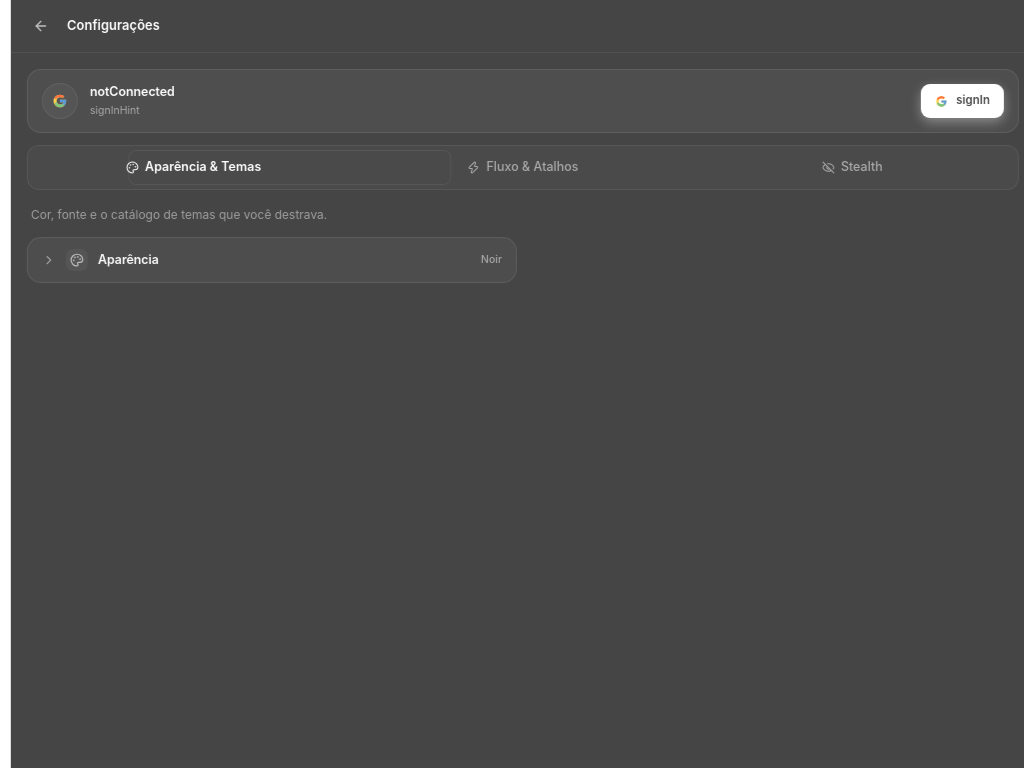
Scenario: SettingsPanel — 3-section tabstrip (DS9) › section subtitle is rendered and updates with the active tab
Expected: the text "Cor, fonte e o catálogo de temas que você destrava." is shown, [31,206,327,221]
Step 1. Click the tab "Stealth" → (852, 167), box [690,150,1014,185]
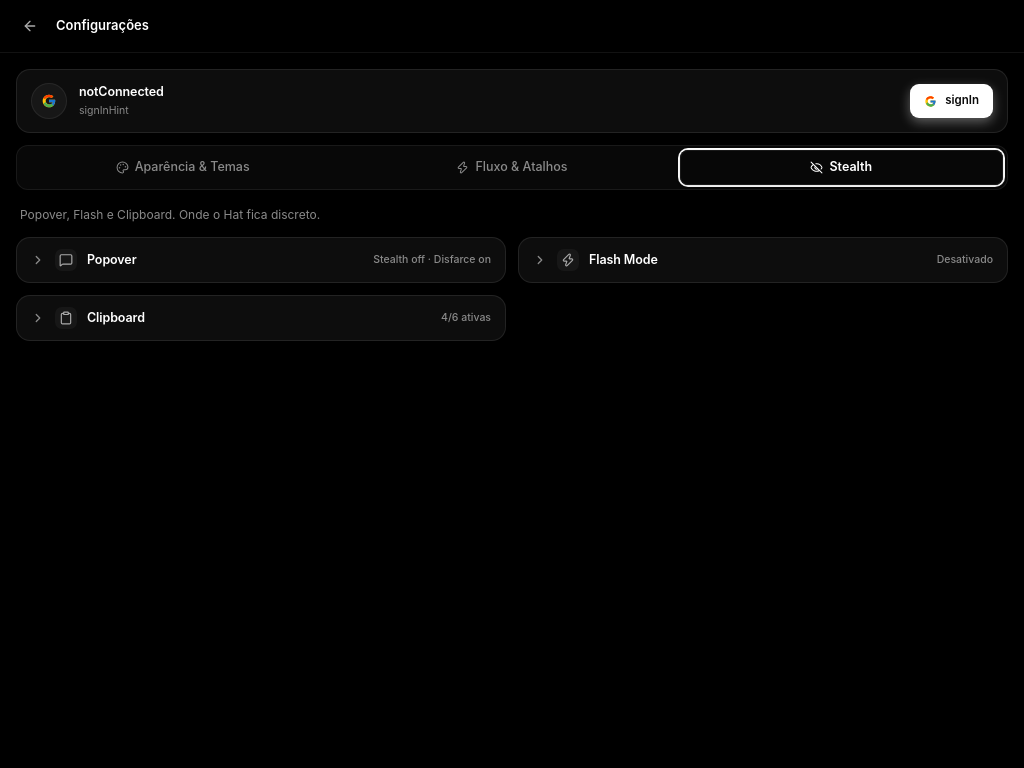
Expected: the text "Popover, Flash e Clipboard. Onde o Hat fica discreto." is shown, [20,207,320,222]
